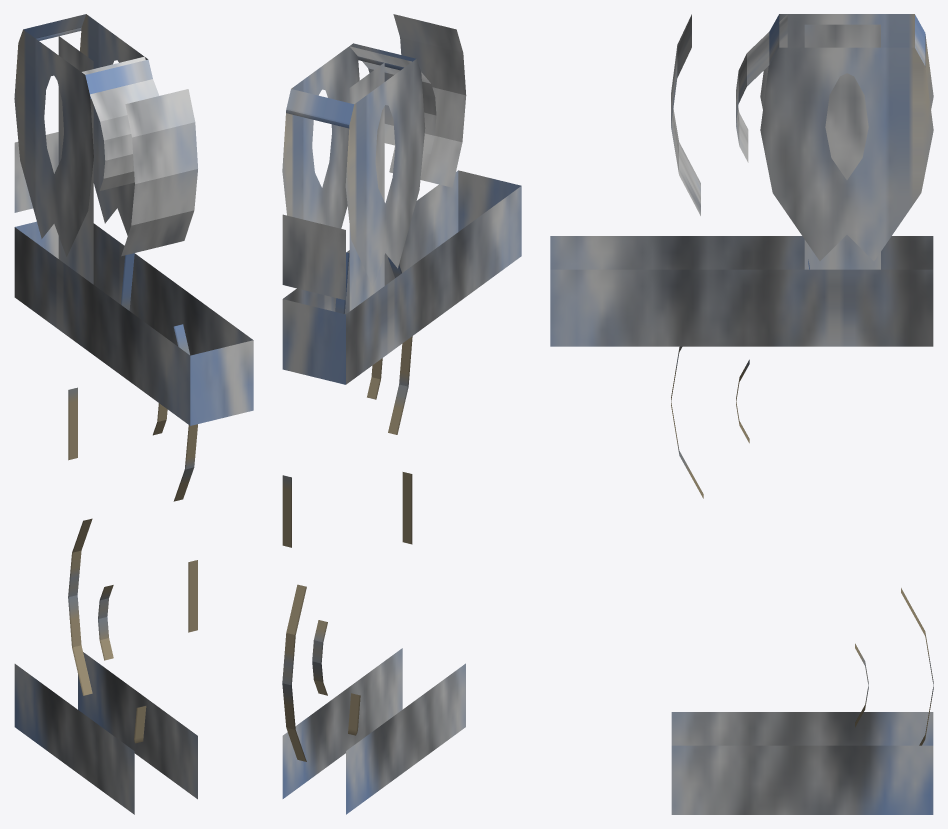
File: section-2.obj
The picture shows the model from 3 angles, left to right: view 1: azimuth 30°, elevation 25°; view 2: azimuth 150°, elevation 25°; view 3: azimuth 270°, elevation 25°; orthographic projection. The views are drawn at different scales.
Bounding box in the file's own units: 0.094 × 1 × 0.4531.
